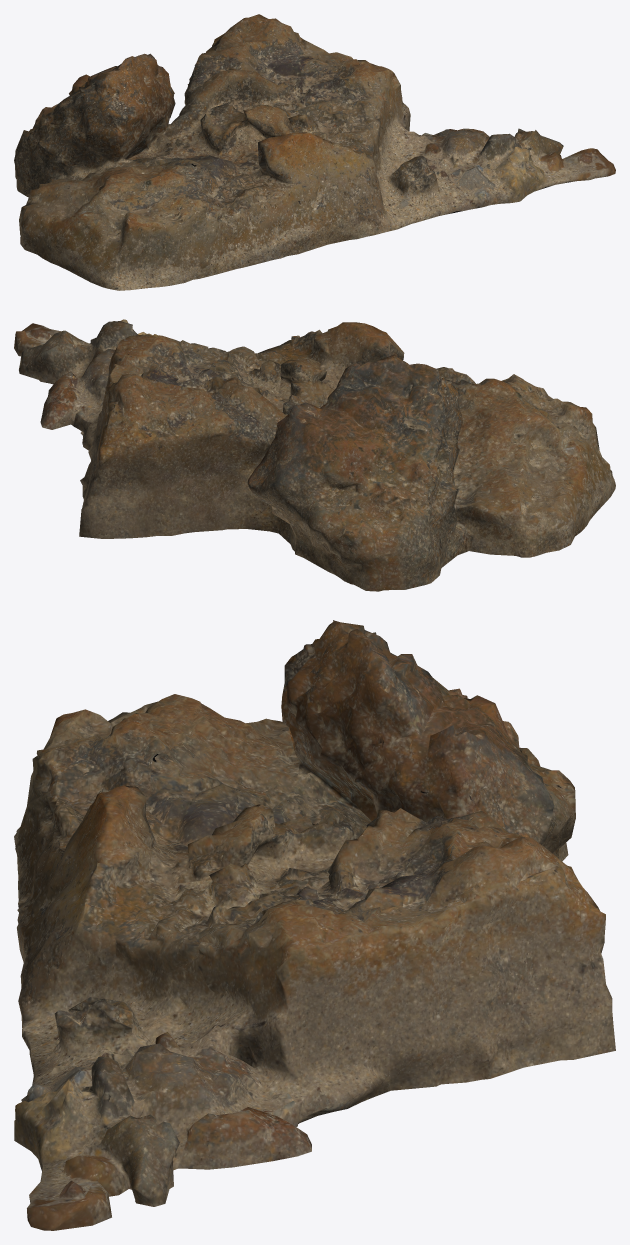
Rendered from SM_yifqeeb_tier_2.gltf.
The picture shows the model from 3 angles, top to bottom: view 1: azimuth 30°, elevation 25°; view 2: azimuth 150°, elevation 25°; view 3: azimuth 270°, elevation 25°; orthographic projection. The views are drawn at different scales.
Visible parts, largest first — view 1: yifqeeb_LOD2_TIER2_000; view 2: yifqeeb_LOD2_TIER2_000; view 3: yifqeeb_LOD2_TIER2_000.
Part boxes in pixels (x1=…): yifqeeb_LOD2_TIER2_000: x1=14, y1=14, x2=615, y2=290; yifqeeb_LOD2_TIER2_000: x1=14, y1=319, x2=615, y2=591; yifqeeb_LOD2_TIER2_000: x1=14, y1=620, x2=615, y2=1230.
Bounding box in the file's own units: 0.4841 × 0.1269 × 0.2711.
Materials: 1 (1 with a texture image).
